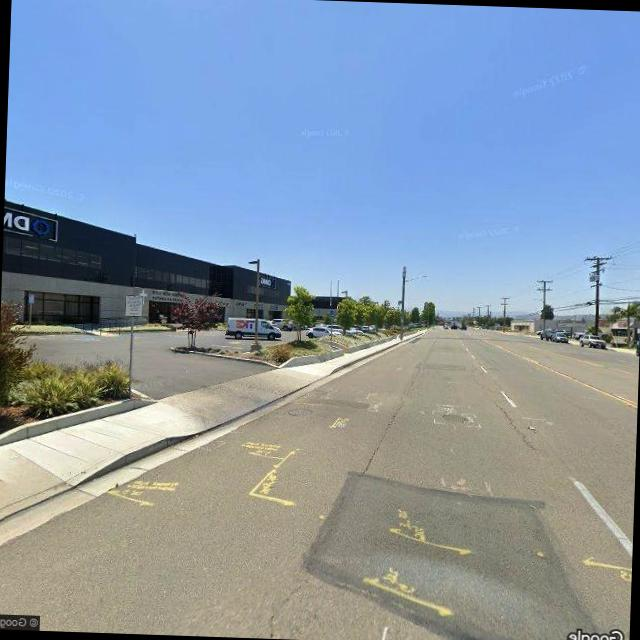pothole: (362, 394, 408, 477), (492, 397, 540, 450)
